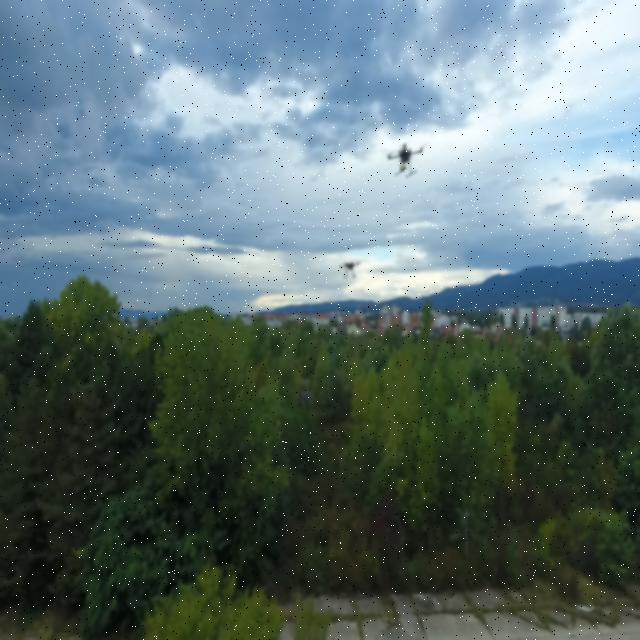UAV: (384, 136, 427, 180), (325, 252, 375, 282)
